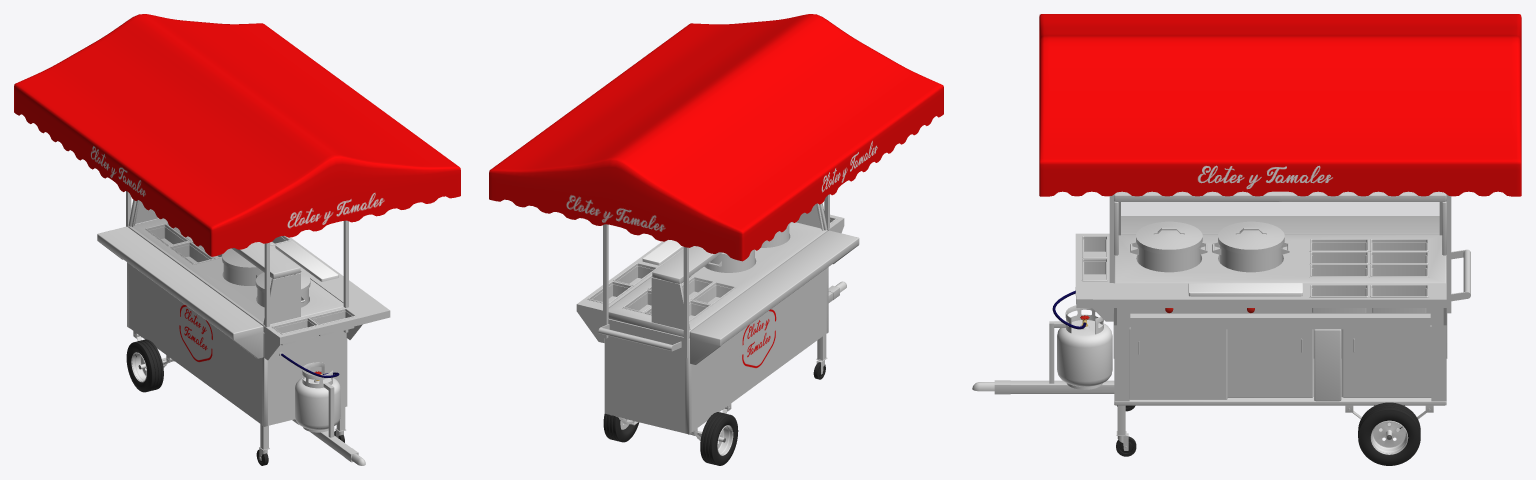
Rendered from street_stall.glb.
3 views of the same model, side by side, from view 1: azimuth 30°, elevation 25°; view 2: azimuth 150°, elevation 25°; view 3: azimuth 270°, elevation 25° (orthographic). The views are drawn at different scales.
Visible parts, largest first — view 1: Object_8, Object_13, Object_3, Object_14, Object_19, Object_17, Object_7, Object_11; view 2: Object_8, Object_13, Object_3, Object_14, Object_17, Object_7, Object_11; view 3: Object_8, Object_13, Object_14, Object_3, Object_19, Object_17, Object_7.
Boxes of the visible parts, x1=… form: Object_8: x1=14, y1=14, x2=460, y2=256; Object_13: x1=97, y1=191, x2=390, y2=465; Object_3: x1=130, y1=200, x2=271, y2=323; Object_14: x1=145, y1=223, x2=310, y2=332; Object_19: x1=131, y1=352, x2=340, y2=432; Object_17: x1=126, y1=339, x2=163, y2=392; Object_7: x1=275, y1=241, x2=338, y2=281; Object_11: x1=179, y1=305, x2=212, y2=362; Object_8: x1=489, y1=14, x2=943, y2=261; Object_13: x1=576, y1=194, x2=859, y2=440; Object_3: x1=681, y1=203, x2=825, y2=329; Object_14: x1=598, y1=222, x2=790, y2=351; Object_17: x1=603, y1=412, x2=738, y2=465; Object_7: x1=642, y1=240, x2=683, y2=265; Object_11: x1=742, y1=309, x2=776, y2=367; Object_8: x1=1039, y1=14, x2=1521, y2=196; Object_13: x1=972, y1=191, x2=1451, y2=450; Object_14: x1=1114, y1=221, x2=1470, y2=401; Object_3: x1=1121, y1=202, x2=1439, y2=234; Object_19: x1=1057, y1=305, x2=1408, y2=454; Object_17: x1=1358, y1=402, x2=1420, y2=465; Object_7: x1=1188, y1=283, x2=1302, y2=296.
Size of the model in its own units: 1.95 by 2.43 by 3.05.
Materials: 11 (2 with a texture image).
